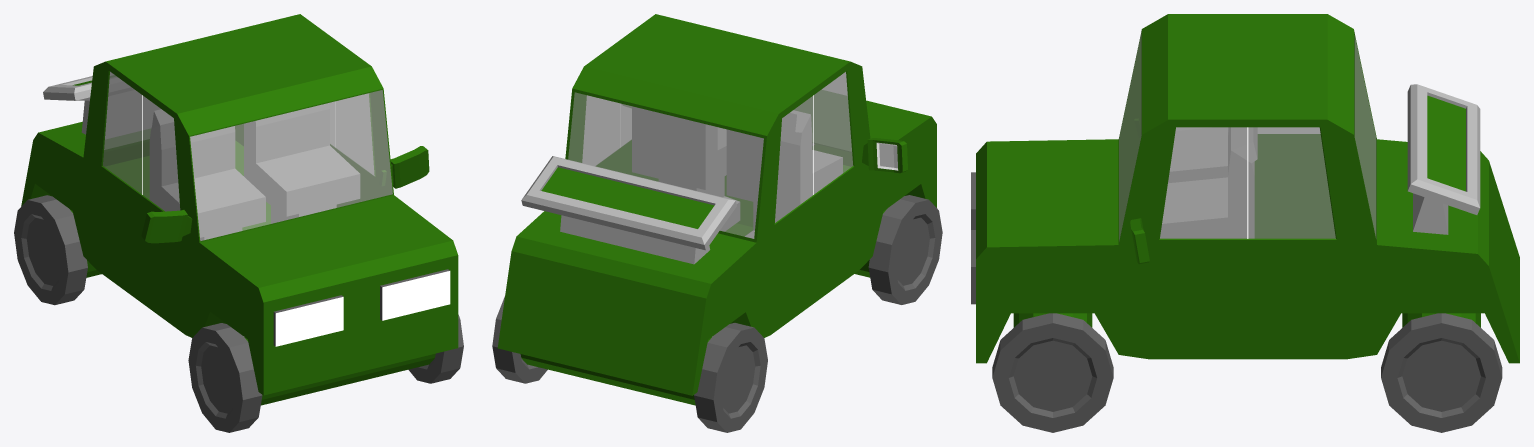
Rendered from cars11.glb.
3 renders of one model, left to right at view 1: azimuth 30°, elevation 25°; view 2: azimuth 150°, elevation 25°; view 3: azimuth 270°, elevation 25°, orthographic. The views are drawn at different scales.
Visible parts, largest first — view 1: Car11, Car11Tire1, Car11Tire2; view 2: Car11, Car11Tire2, Car11Tire1; view 3: Car11, Car11Tire1, Car11Tire2.
Boxes of the visible parts, bbox=[...] form: Car11: bbox=[21, 14, 458, 395]; Car11Tire1: bbox=[188, 314, 463, 432]; Car11Tire2: bbox=[14, 195, 101, 305]; Car11: bbox=[497, 14, 936, 395]; Car11Tire2: bbox=[492, 296, 767, 432]; Car11Tire1: bbox=[855, 195, 942, 304]; Car11: bbox=[971, 14, 1519, 363]; Car11Tire1: bbox=[992, 313, 1113, 432]; Car11Tire2: bbox=[1381, 313, 1502, 432].
Size of the model in its own units: 1.52 by 1.4 by 2.28.
